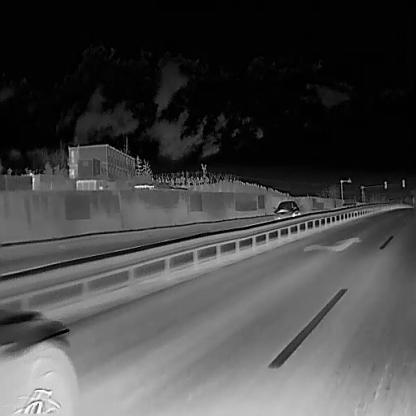car: (272, 199, 300, 220), (341, 197, 357, 207)
